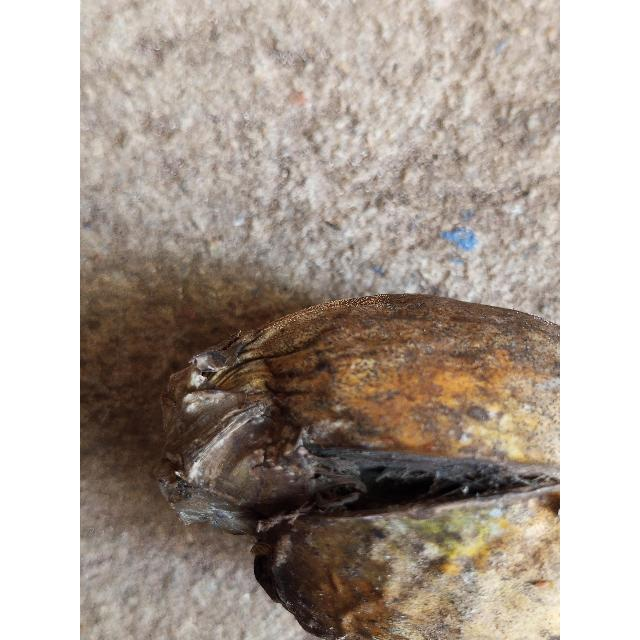damaged: (155, 294, 559, 640)
